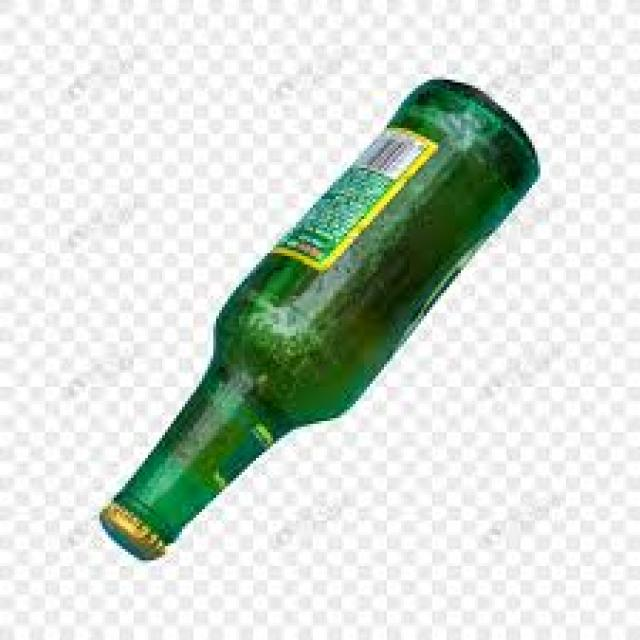glass: (111, 77, 535, 540)
metal: (97, 501, 165, 558)
